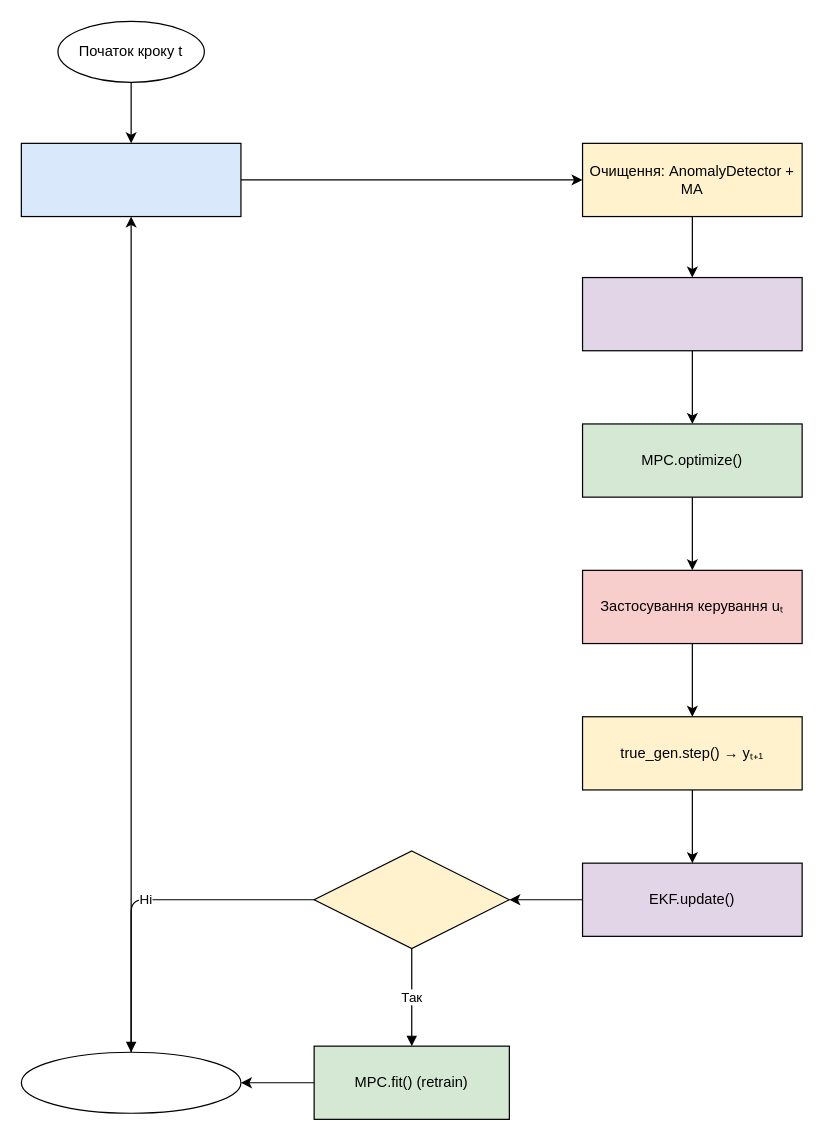
Image size: 824x1141. Some labels were removed from this diagram. Each missing label, with the box of its shape:
EKF.predict(): (581, 276, 802, 351)
Вимірювання: raw signal: (20, 142, 241, 217)
Кінець кроку t: (20, 1051, 241, 1113)
Чи innovation > threshold?: (313, 850, 509, 949)
